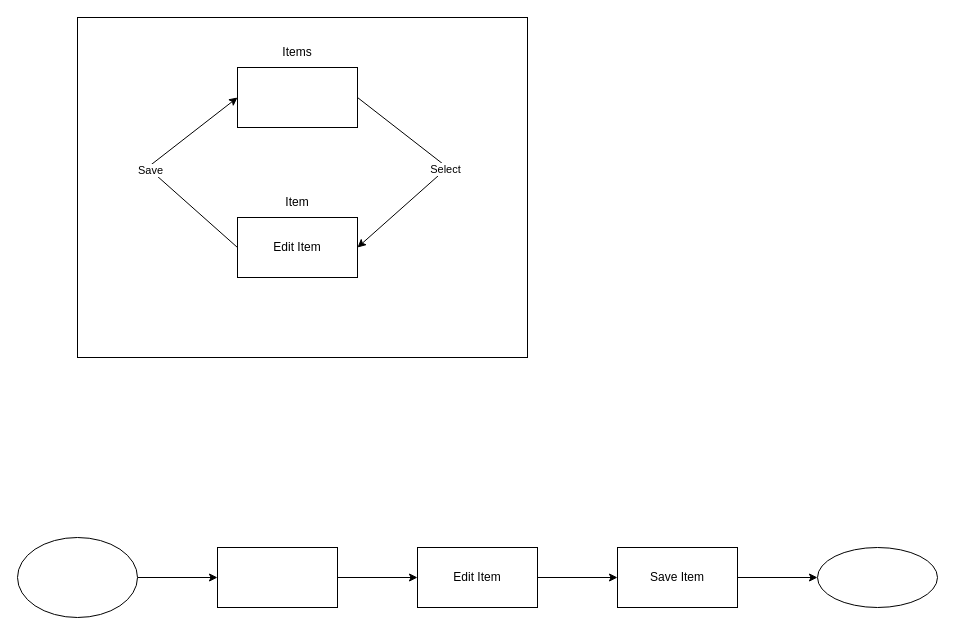
Some shapes in this 955 by 635 pixel diagram are drawn without their labels. Each missing label, with the centre of its shape:
"List" belongs at (297,97).
"Select Item" belongs at (277,577).
